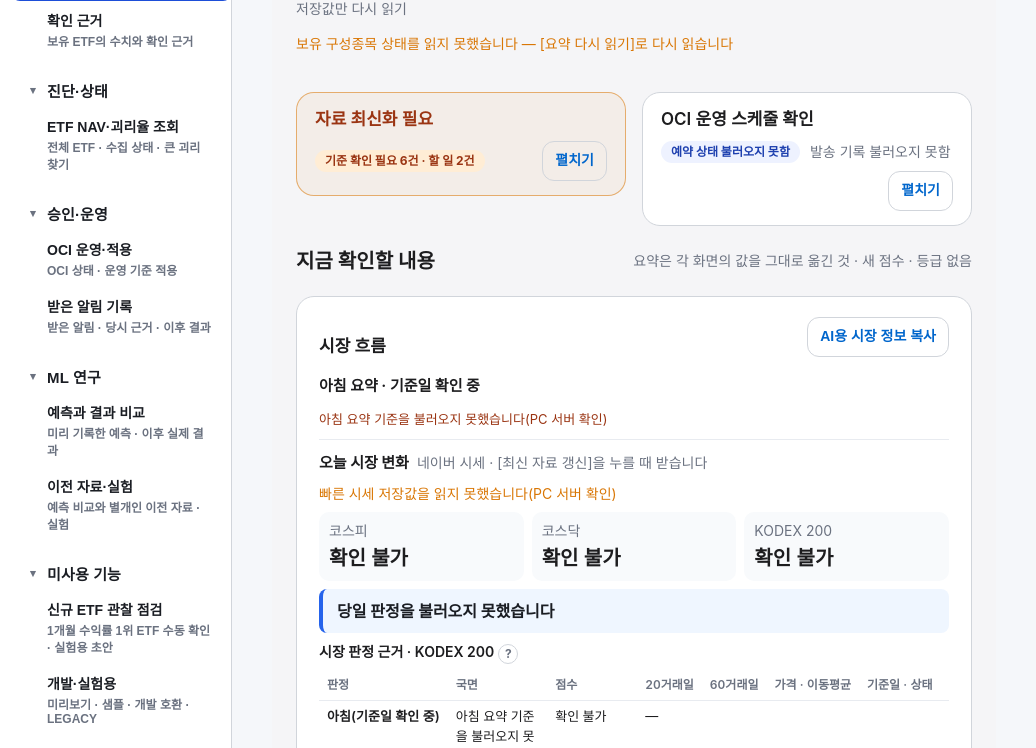
POC6-15 ML 연구 두 화면 › 이전 자료·실험(`ml_legacy`) = 카드 5개 · 안내 한 줄 · 전향 조회 0 · 카드마다 조회 1회
(page scrolled)
Click the button "이전 자료·실험 예측 비교와 별개인 이전 자료 · 실험" at {"x": 122, "y": 504}, box [12,467,231,541]
(page scrolled)
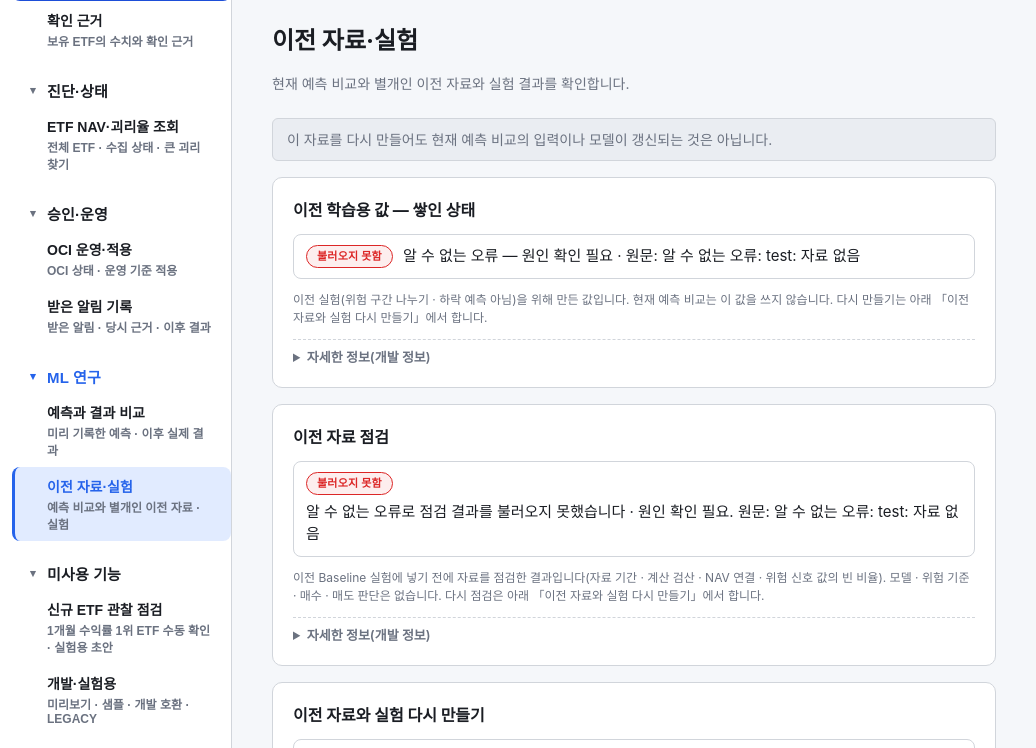
Expected: the text "현재 예측 비교와 별개인 이전 자료와 실험 결과를 확인합니다." is shown, [272,75,630,92]
Expected: the text "이 자료를 다시 만들어도 현재 예측 비교의 입력이나 모델이 갱신되는 것은 아닙니다." is shown, [272,118,996,161]
